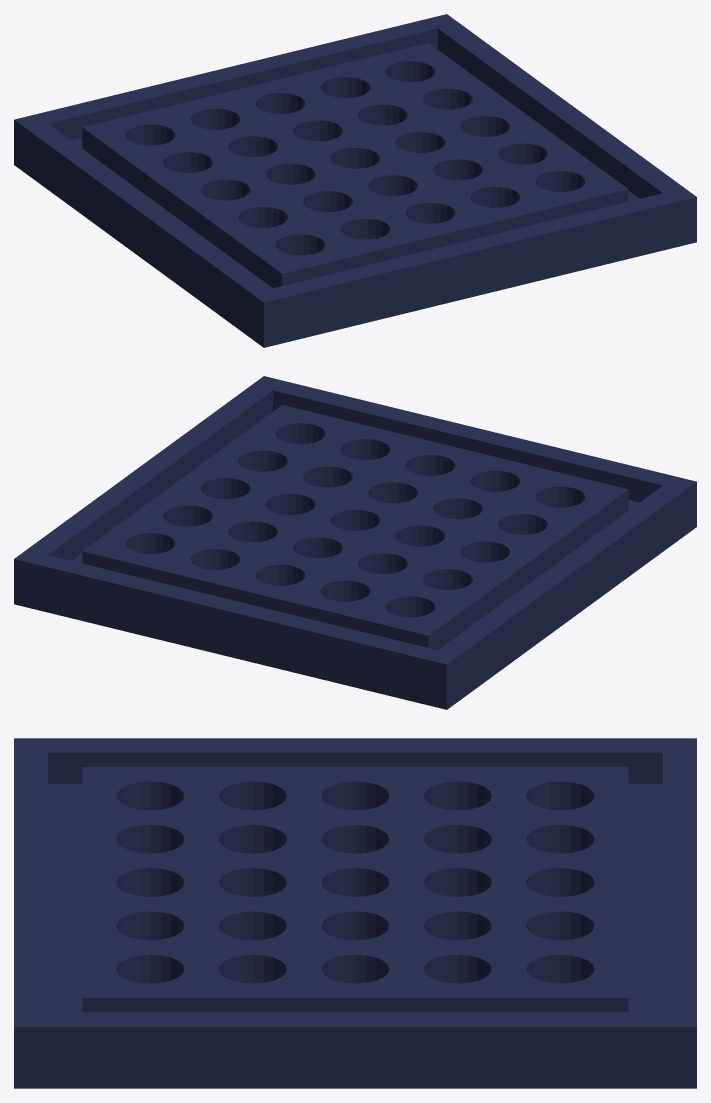
Rendered from Spikes tile.fbx.
3 renders of one model, top to bottom at view 1: azimuth 30°, elevation 25°; view 2: azimuth 150°, elevation 25°; view 3: azimuth 270°, elevation 25°, orthographic. The views are drawn at different scales.
Visible parts, largest first — view 1: obj_0.007; view 2: obj_0.007; view 3: obj_0.007.
Boxes of the visible parts, <box> form: obj_0.007: <box>14,14,696,347</box>; obj_0.007: <box>14,376,696,709</box>; obj_0.007: <box>14,738,696,1088</box>.
Bounding box in the file's own units: 2000 × 200 × 2000.
